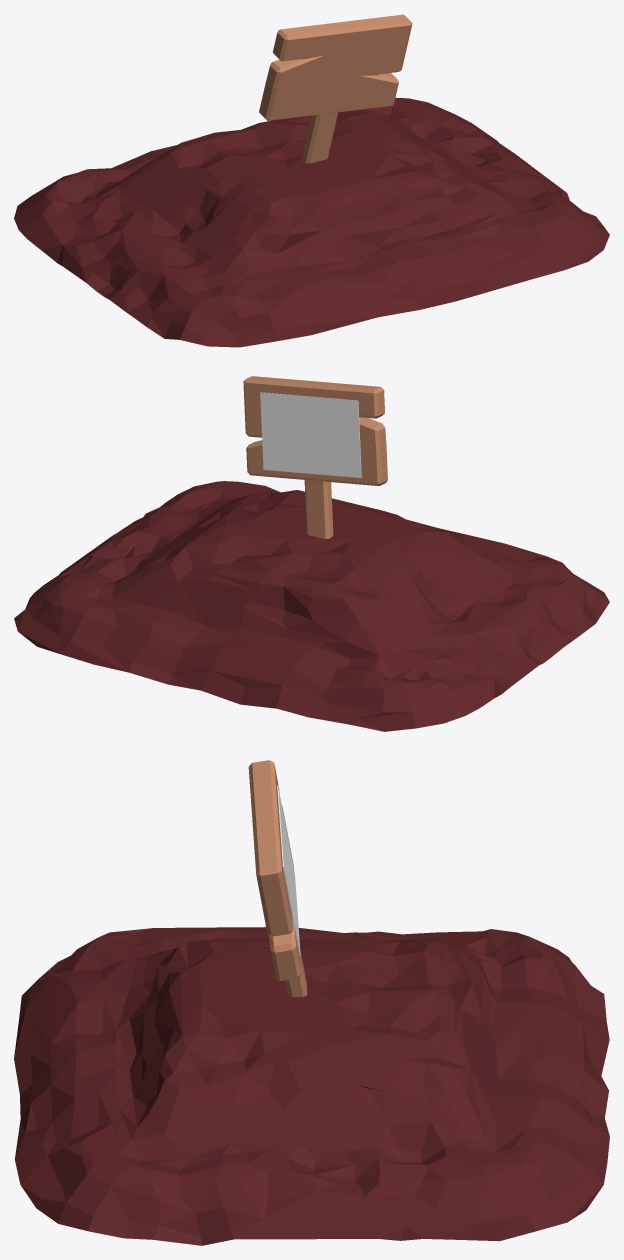
Rendered from planter.fbx.
3 renders of one model, top to bottom at view 1: azimuth 30°, elevation 25°; view 2: azimuth 150°, elevation 25°; view 3: azimuth 270°, elevation 25°, orthographic. The views are drawn at different scales.
Parts seen in each view (by area): view 1: dirt, sign; view 2: dirt, sign, note; view 3: dirt, sign, note.
Boxes of the visible parts, x1,y1,x2,y2 form: dirt: [14, 97, 609, 347]; sign: [259, 14, 412, 163]; dirt: [14, 481, 609, 731]; sign: [243, 376, 387, 539]; note: [260, 392, 361, 477]; dirt: [14, 927, 609, 1245]; sign: [248, 760, 307, 997]; note: [277, 785, 300, 955].
Bounding box in the file's own units: 5.44 × 2.63 × 4.57.
